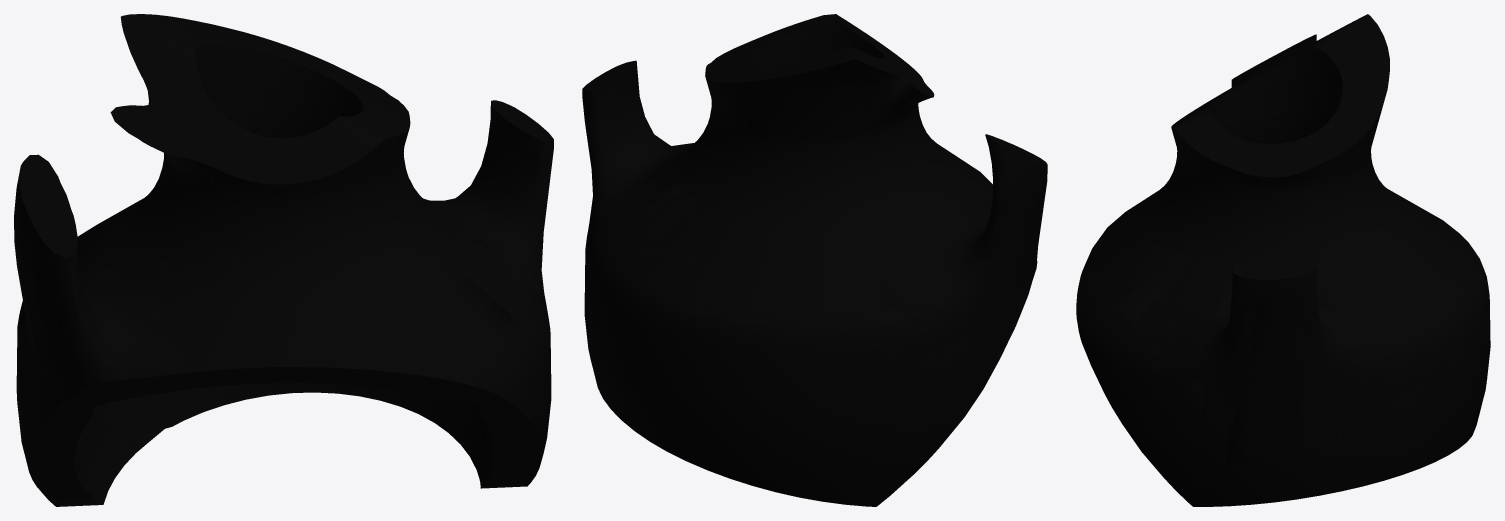
3 renders of one model, left to right at view 1: azimuth 30°, elevation 25°; view 2: azimuth 150°, elevation 25°; view 3: azimuth 270°, elevation 25°, orthographic. The views are drawn at different scales.
Visible parts, largest first — view 1: Cylinder_cell.007; view 2: Cylinder_cell.007; view 3: Cylinder_cell.007.
Boxes of the visible parts, bbox=[...] form: Cylinder_cell.007: bbox=[14, 14, 553, 506]; Cylinder_cell.007: bbox=[582, 14, 1047, 506]; Cylinder_cell.007: bbox=[1076, 14, 1490, 506].
Bounding box in the file's own units: 0.6339 × 0.5872 × 0.5514.
1 material, 1 textured.
